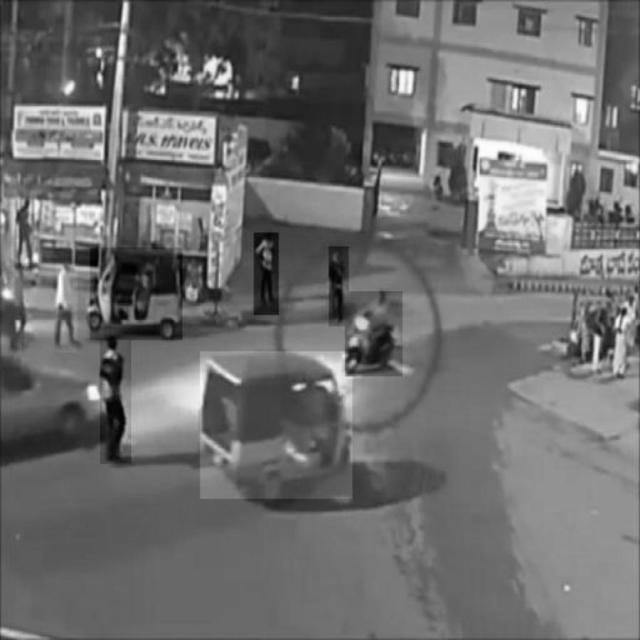person: (101, 340, 131, 464), (254, 233, 279, 315), (57, 264, 77, 352), (16, 194, 38, 268), (329, 247, 349, 327)
vehicle: (200, 352, 352, 499), (90, 247, 182, 339), (345, 291, 403, 375)
